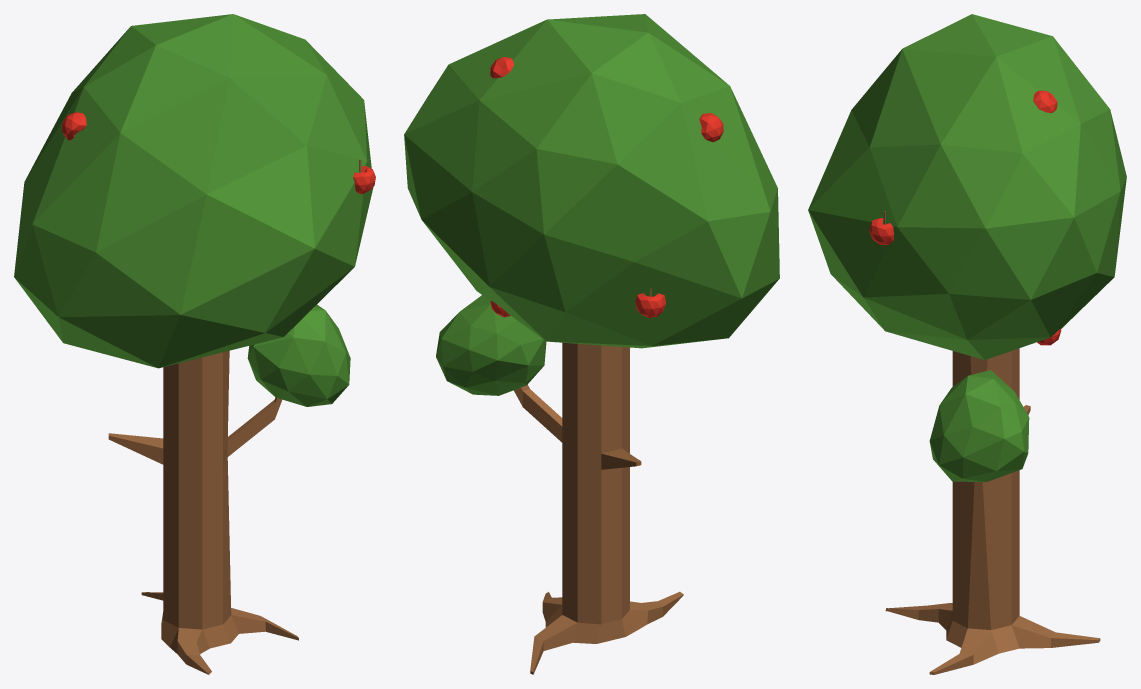
Rendered from Tree2 1.fbx.
3 renders of one model, left to right at view 1: azimuth 30°, elevation 25°; view 2: azimuth 150°, elevation 25°; view 3: azimuth 270°, elevation 25°, orthographic.
Visible parts, largest first — view 1: Cylinder; view 2: Cylinder; view 3: Cylinder.
Boxes of the visible parts, box(x1,y1,x2,y2) form: Cylinder: box(14, 14, 375, 674); Cylinder: box(404, 14, 779, 674); Cylinder: box(808, 14, 1126, 674).
Size of the model in its own units: 4.96 by 8.56 by 4.1.
